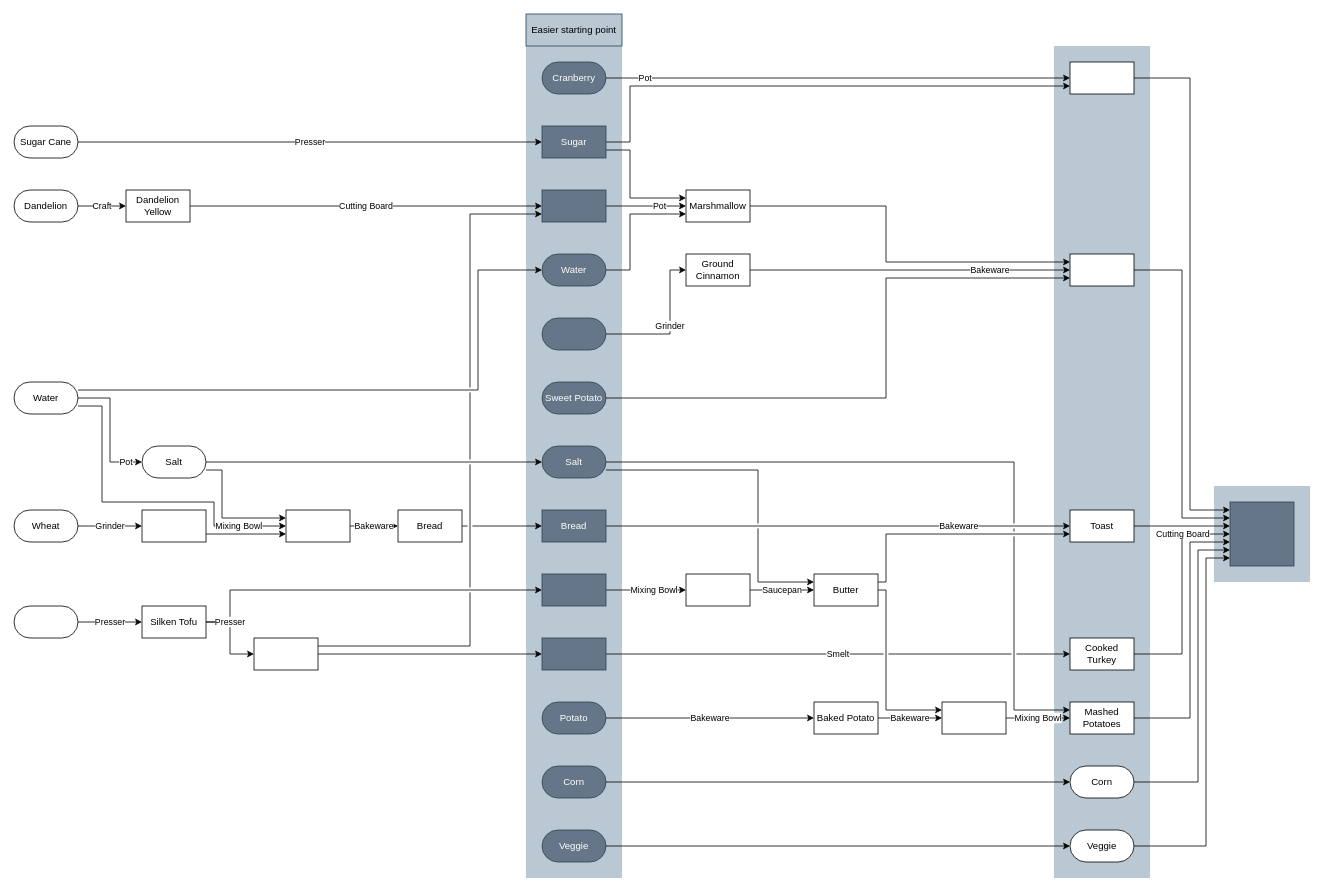
Image size: 1324x892. Some labels were removed from this diagram. The shapes that lost their labels are listed below. From the top down, each one's box as (x1, y1, x2, y2) in pixels, then its label:
(1069, 61, 1134, 94): Cranberry Jelly
(541, 189, 606, 222): Raw Tofeeg
(1069, 253, 1134, 286): Sweet Potato Pie
(541, 317, 606, 350): Cinnamon
(141, 509, 206, 542): Flour
(285, 509, 350, 542): Dough
(1229, 501, 1294, 566): Thankful Dinner
(541, 573, 606, 606): Soy Milk
(685, 573, 750, 606): Heavy Cream
(13, 605, 78, 638): Soybean
(253, 637, 318, 670): Firm Tofu
(541, 637, 606, 670): Raw Tofurkey
(941, 701, 1006, 734): Buttered Potatoes
